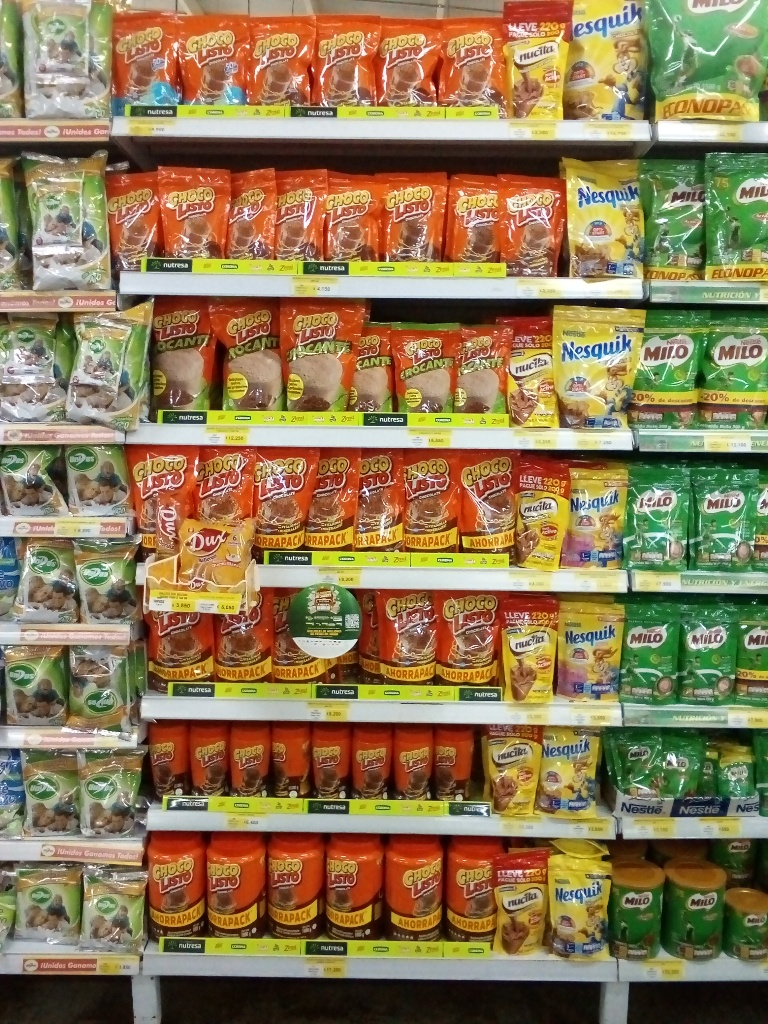COL0170102DYP25000: (455, 325, 513, 414)
COL0170102DYP50000: (277, 297, 363, 412)
COL0170103DYP44000: (456, 450, 524, 561)
COL0170103TRR00100: (442, 837, 500, 944)
COL0170103TRR30000: (431, 723, 474, 802)
COL0170104DYP20000: (177, 12, 249, 106)
COL0170203DYP10000: (688, 467, 757, 574)
COL0170203DYP50000: (634, 148, 709, 284)
COL0170203LAT40000: (720, 885, 766, 961)
COL0170303DYP20000: (559, 155, 644, 279)
COL0170305DYP20000: (561, 466, 630, 567)
